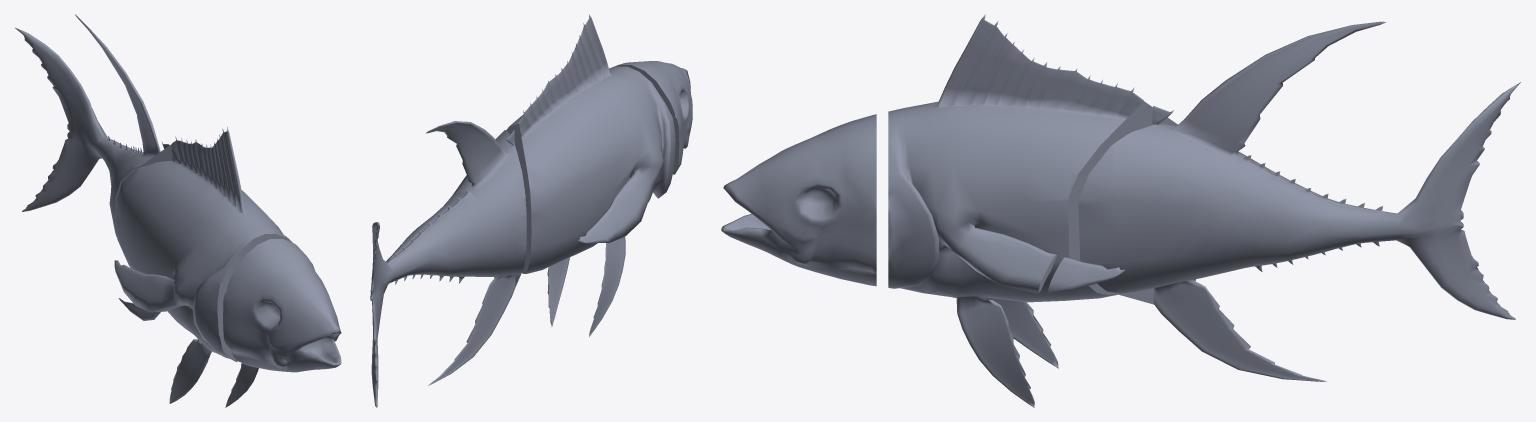
The model's file is tuna-fish_part.fbx.
3 renders of one model, left to right at view 1: azimuth 30°, elevation 25°; view 2: azimuth 150°, elevation 25°; view 3: azimuth 270°, elevation 25°, orthographic. The views are drawn at different scales.
Parts seen in each view (by area): view 1: Fish_part_1, Fish_part_2, Fish_part_3; view 2: Fish_part_1, Fish_part_3, Fish_part_2; view 3: Fish_part_3, Fish_part_1, Fish_part_2, Fish_part_4.
Boxes of the visible parts, x1,y1,x2,y2 form: Fish_part_1: (114, 127, 292, 407); Fish_part_2: (223, 239, 341, 372); Fish_part_3: (15, 14, 169, 320); Fish_part_1: (506, 14, 675, 336); Fish_part_3: (370, 121, 526, 407); Fish_part_2: (609, 61, 692, 174); Fish_part_3: (1078, 21, 1520, 381); Fish_part_1: (888, 14, 1177, 407); Fish_part_2: (721, 114, 876, 286); Fish_part_4: (1047, 257, 1125, 292).
Size of the model in its own units: 122 by 252 by 476.
